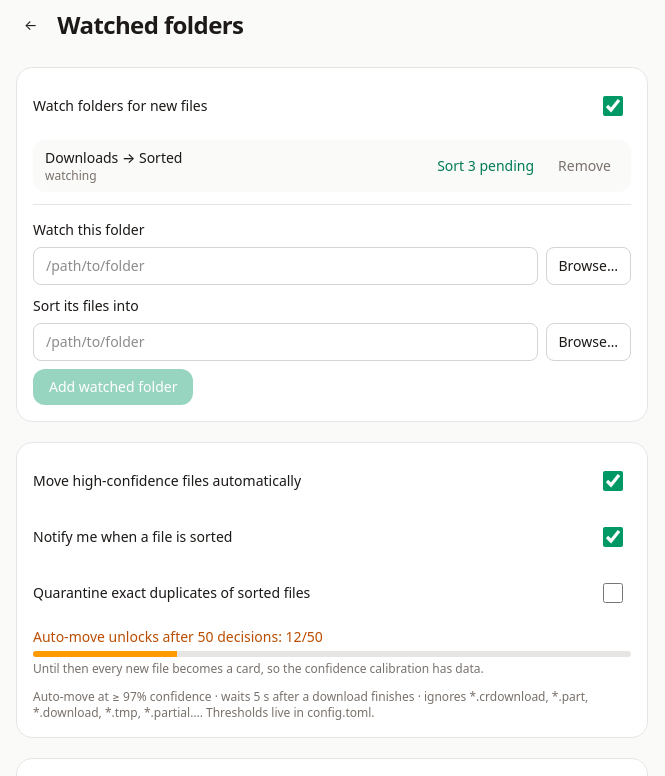
Scenario: Watch page › shows a save error from the daemon
The width and height of the screenshot is (665, 776).
Click the switch labelled "Watch folders for new files": coordinates (613, 106) top-left (595, 96), bottom-right (631, 116)
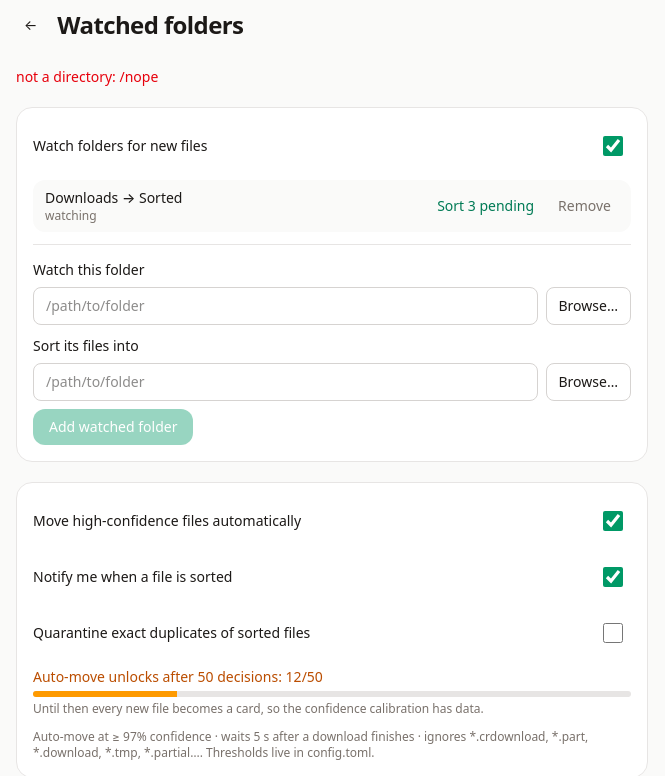
Expected: the message reads "not a directory: /nope", top-left (16, 67), bottom-right (158, 86)
